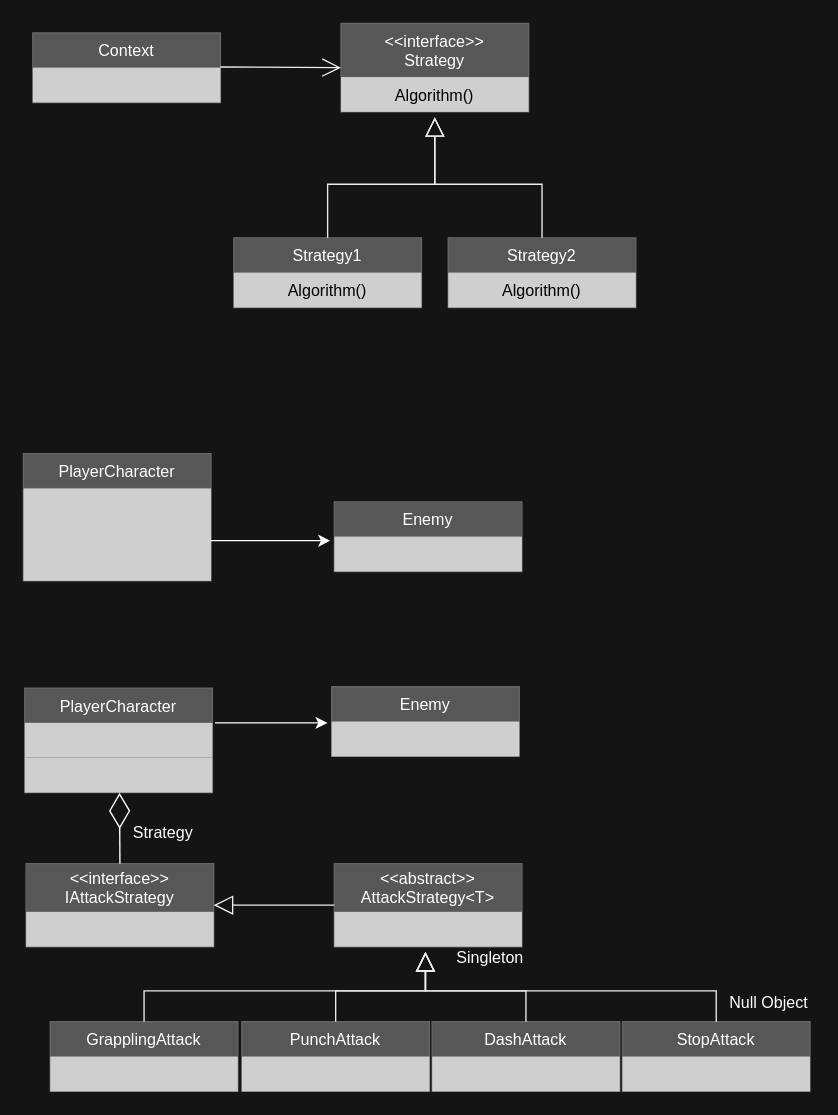
Image size: 838x1115. Some labels were removed from this diagram. The shapes that lost their labels are listed below. From the top down, each one's centre as x and y in pixels, then its label:
At point (126, 84): "Operation()".
At point (116, 534): "FindEnemy() GrapplingAttack() PunchAttack() DashAttack()".
At point (118, 739): "attackStrategy".
At point (118, 774): "FindEnemy()".
At point (119, 928): "Attack(Enemy)".
At point (427, 928): "instance : T".
